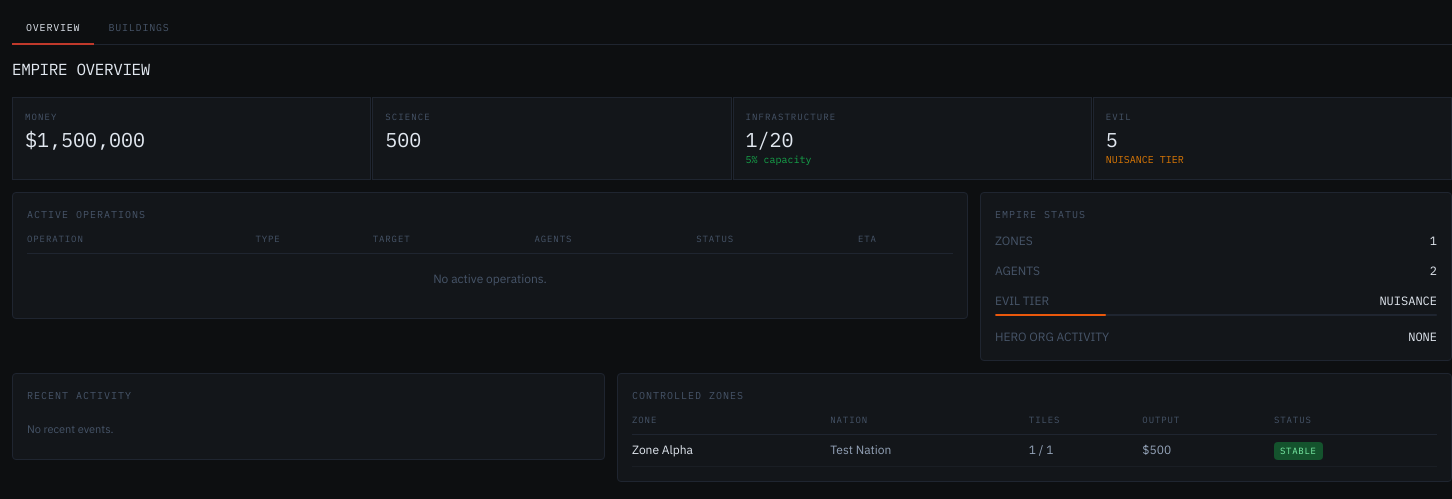
Test: EmpireScreen › groups buildings by zone
Click the button "BUILDINGS" at (139, 28), box top-left (94, 12), bottom-right (184, 45)
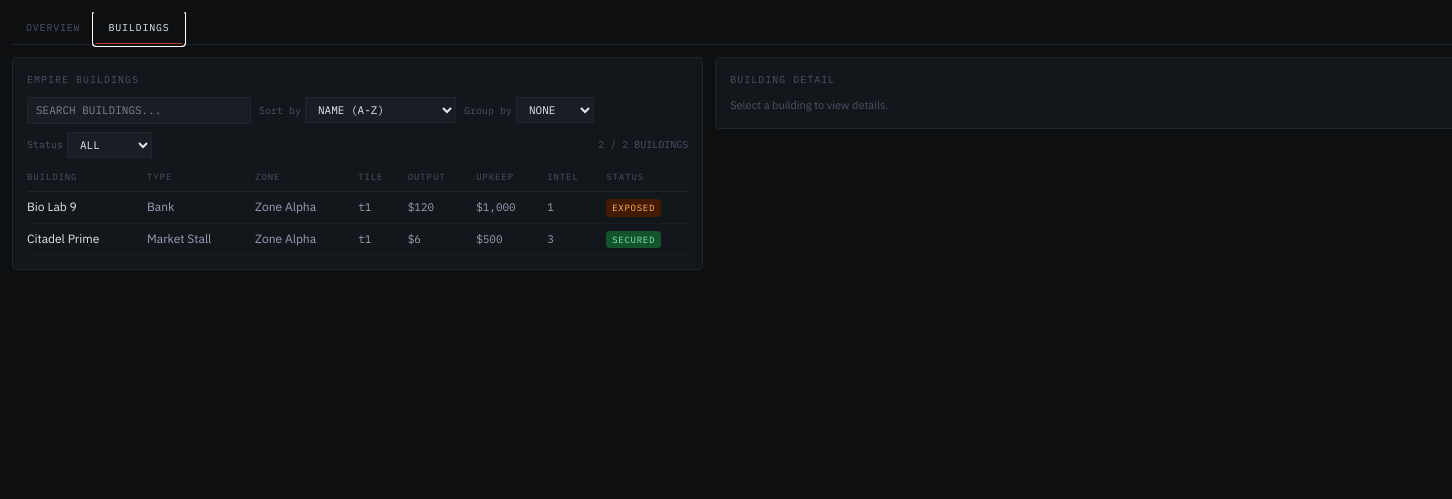
Select "ZONE" in the dropdown labelled "Group by" at (555, 110), box top-left (516, 97), bottom-right (594, 123)
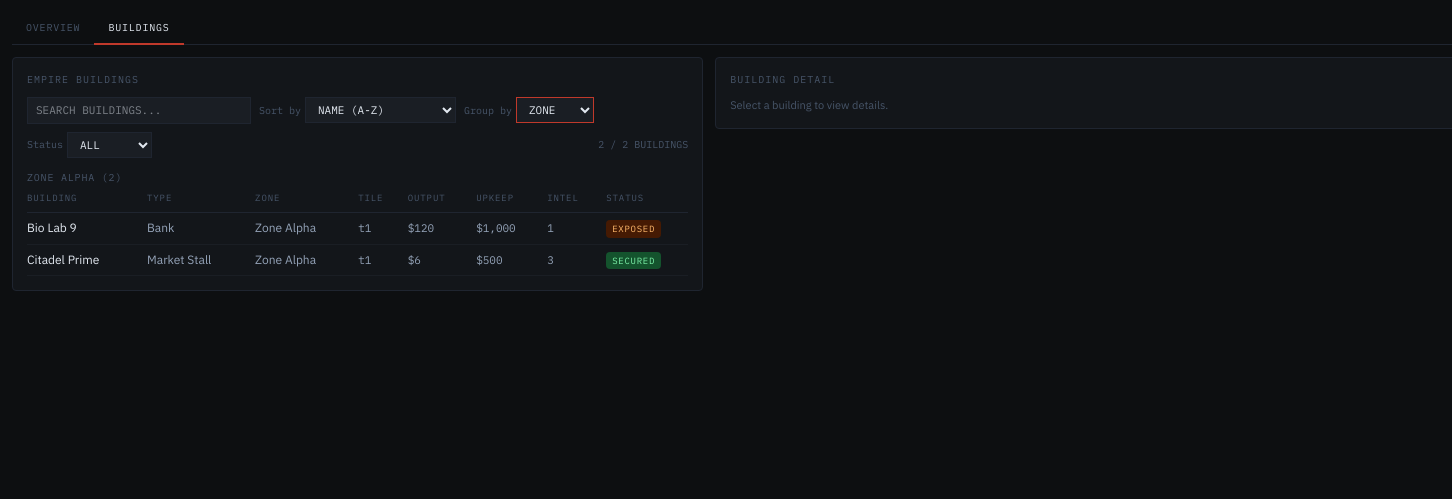
Now the text "ZONE ALPHA (2)" is shown, box top-left (27, 170), bottom-right (122, 184)
